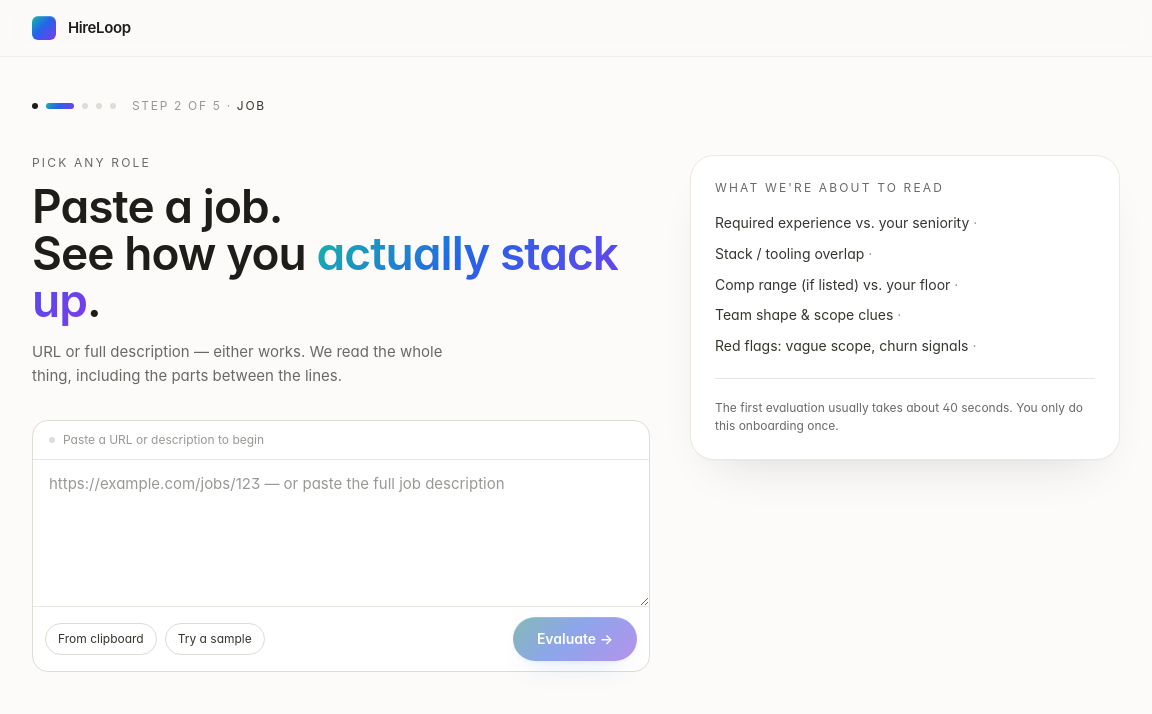
Scenario: OnboardingPage › shows evaluation progress during the wait
The width and height of the screenshot is (1152, 714).
Expected: the heading "Paste a job.See how you actually stack up." is shown, [32, 183, 650, 324]
Replace the text in the text box with "https://example.com/jobs/1" at (341, 533), box [33, 460, 649, 606]
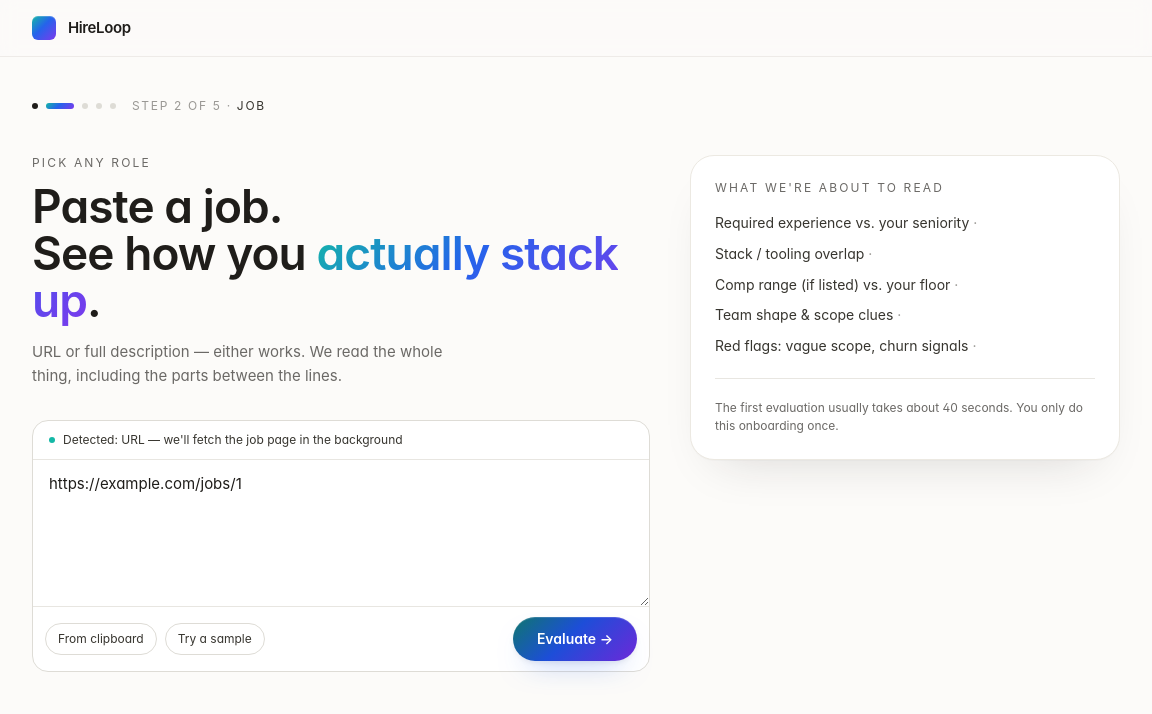
Click the button "Evaluate →" at (575, 639), box [513, 617, 637, 661]
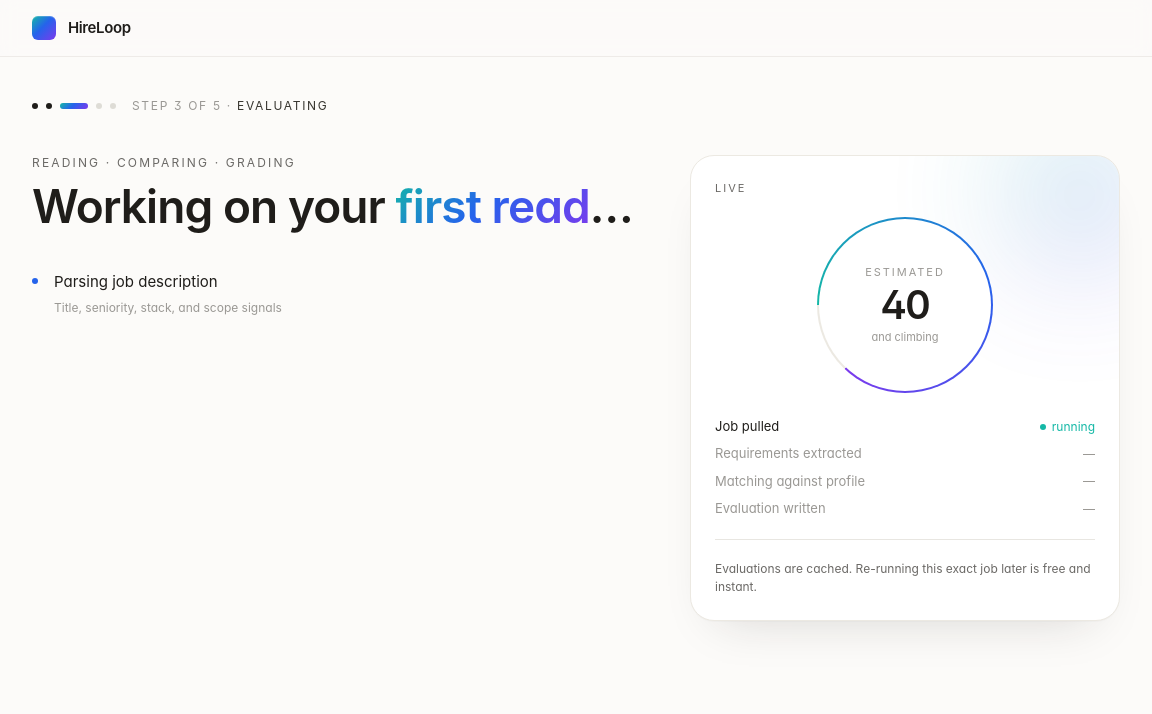
Expected: the text "Parsing job description" is shown, [54, 272, 218, 291]
